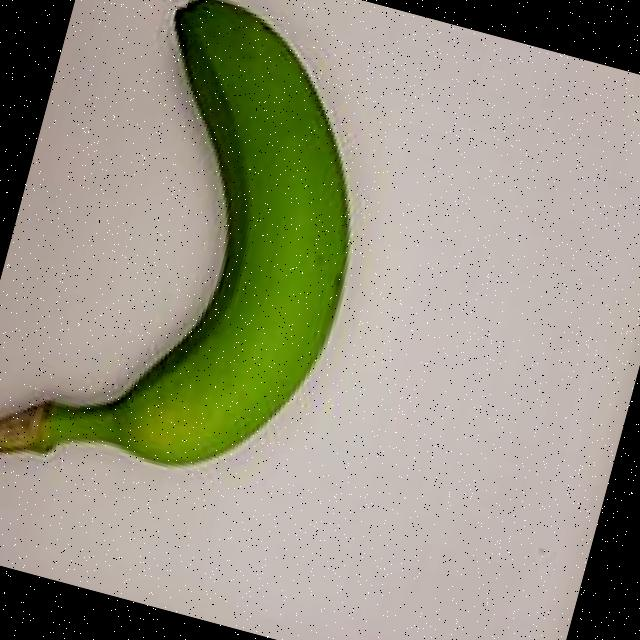Unripe: (0, 0, 417, 554)
